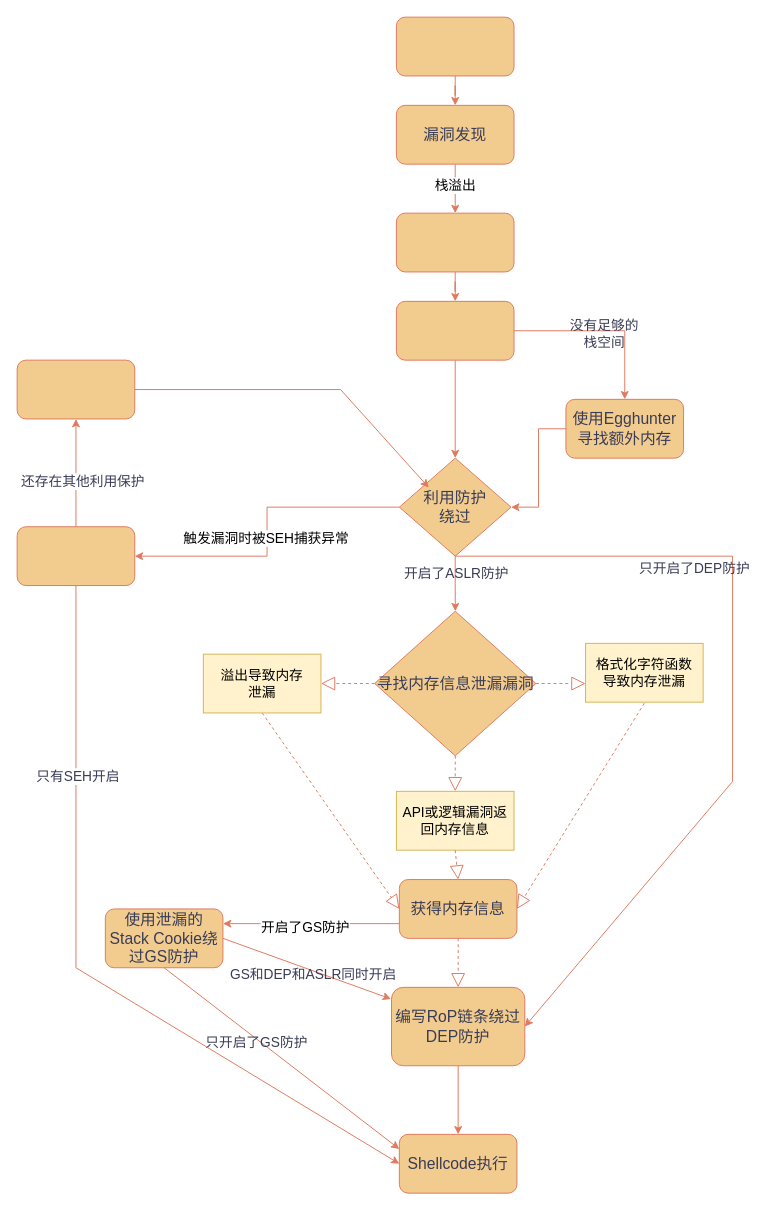
Image size: 766x1210. Some labels were removed from this diagram. Here are the shapes that lost their labels. From the top down, the centre of each, then its label:
pixel 454 46: 利用保护检查
pixel 454 242: 指令寄存器 偏移检查
pixel 454 330: 坏字符检查
pixel 75 389: 覆盖SEH 以便绕过其他利用防护
pixel 75 556: 使用PoP PoP Ret 指令绕过SEH
